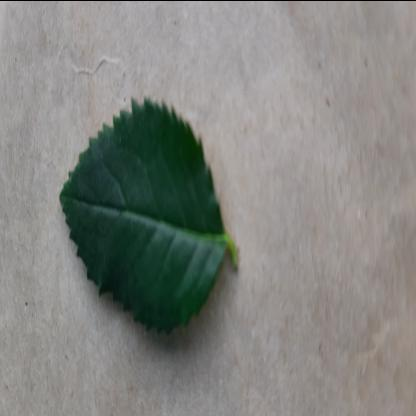normal: (59, 90, 227, 334)
